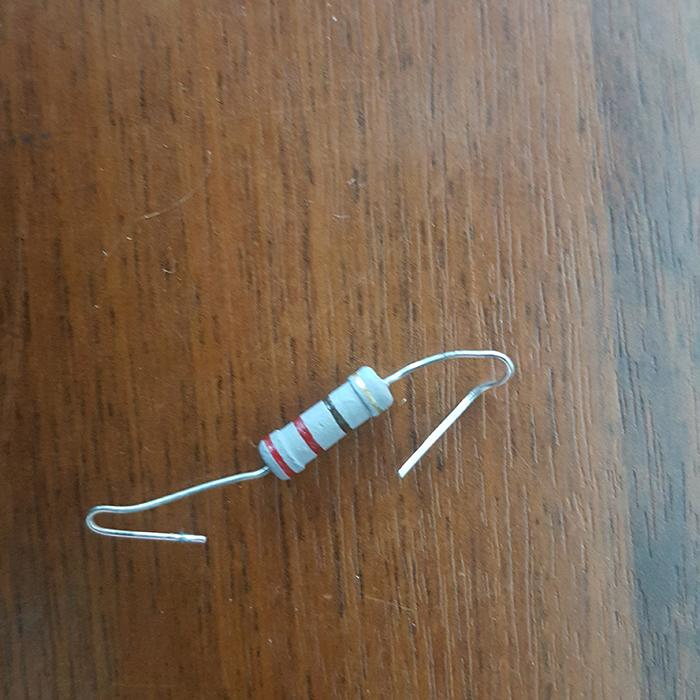resistor: (257, 363, 392, 479)
